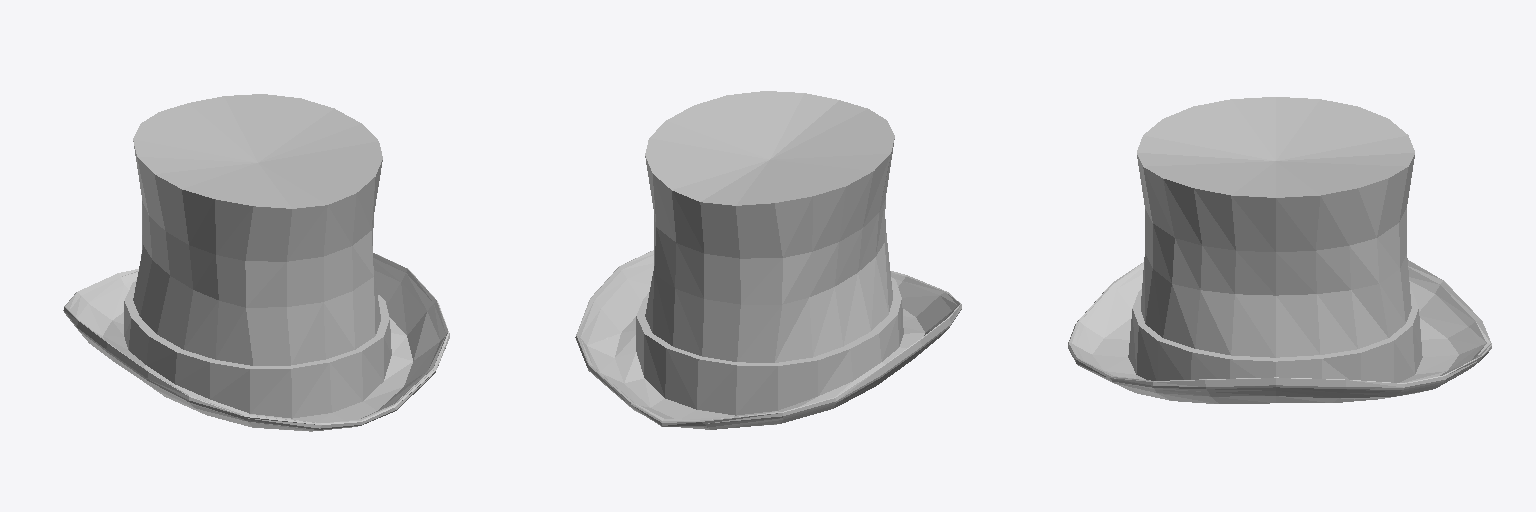
File: TopHat.obj
3 views of the same model, side by side, from view 1: azimuth 30°, elevation 25°; view 2: azimuth 150°, elevation 25°; view 3: azimuth 270°, elevation 25° (orthographic).
Parts seen in each view (by area): view 1: hat; view 2: hat; view 3: hat.
Part boxes in pixels (x1,y1,x2,y2): hat: (63, 94, 449, 431); hat: (575, 91, 961, 429); hat: (1068, 97, 1491, 403).
Bounding box in the file's own units: 6.79 × 4.64 × 8.22.